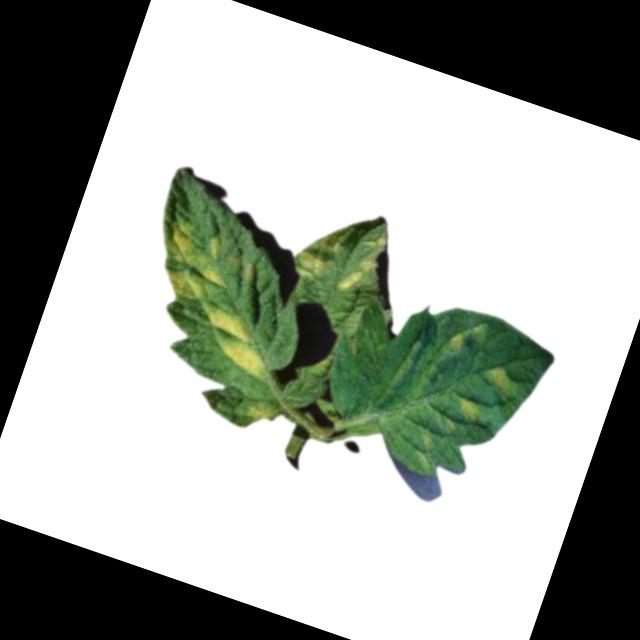Leaf_Mold: (154, 210, 247, 311), (196, 304, 283, 378), (289, 216, 350, 286), (336, 229, 388, 301), (481, 361, 519, 396), (242, 395, 282, 428), (443, 325, 473, 358), (455, 396, 486, 426)
